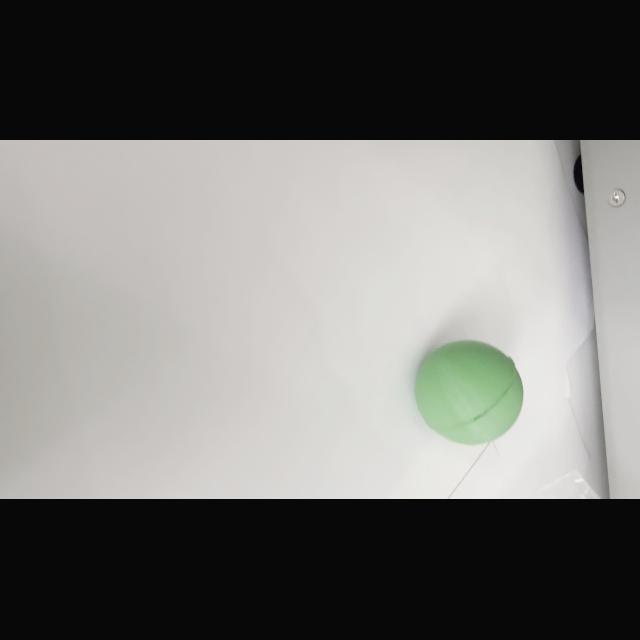objects: (412, 336, 524, 448)
